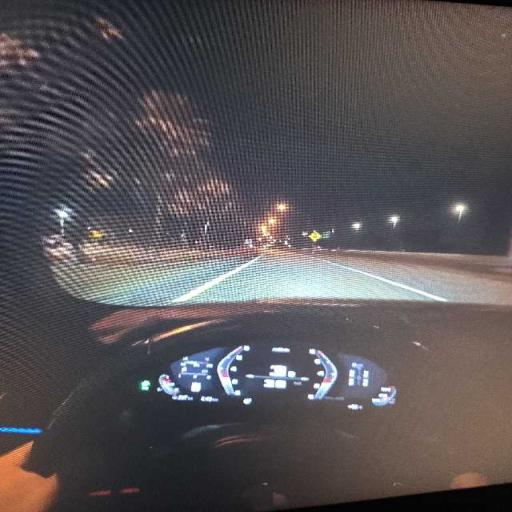car: (0, 0, 511, 511), (25, 301, 511, 510), (43, 235, 76, 262)
lane: (55, 250, 511, 306), (189, 251, 427, 303), (316, 251, 511, 304), (53, 258, 247, 306), (322, 260, 447, 301), (172, 256, 261, 303)
